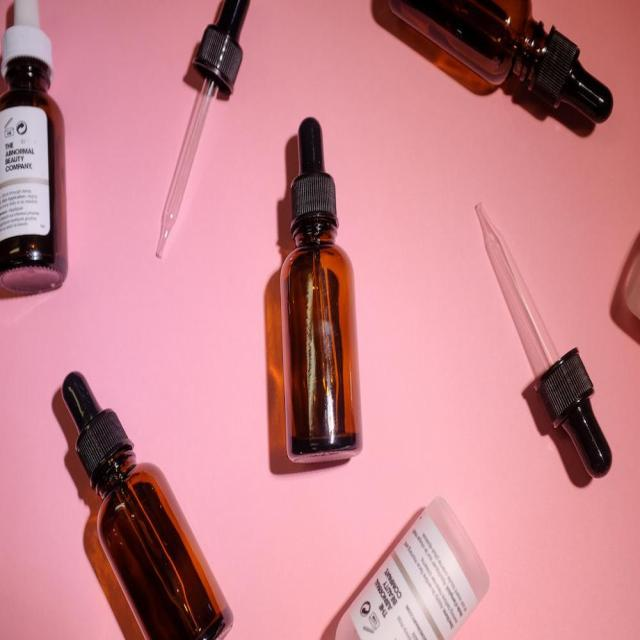non-organic waste: (272, 108, 369, 472)
